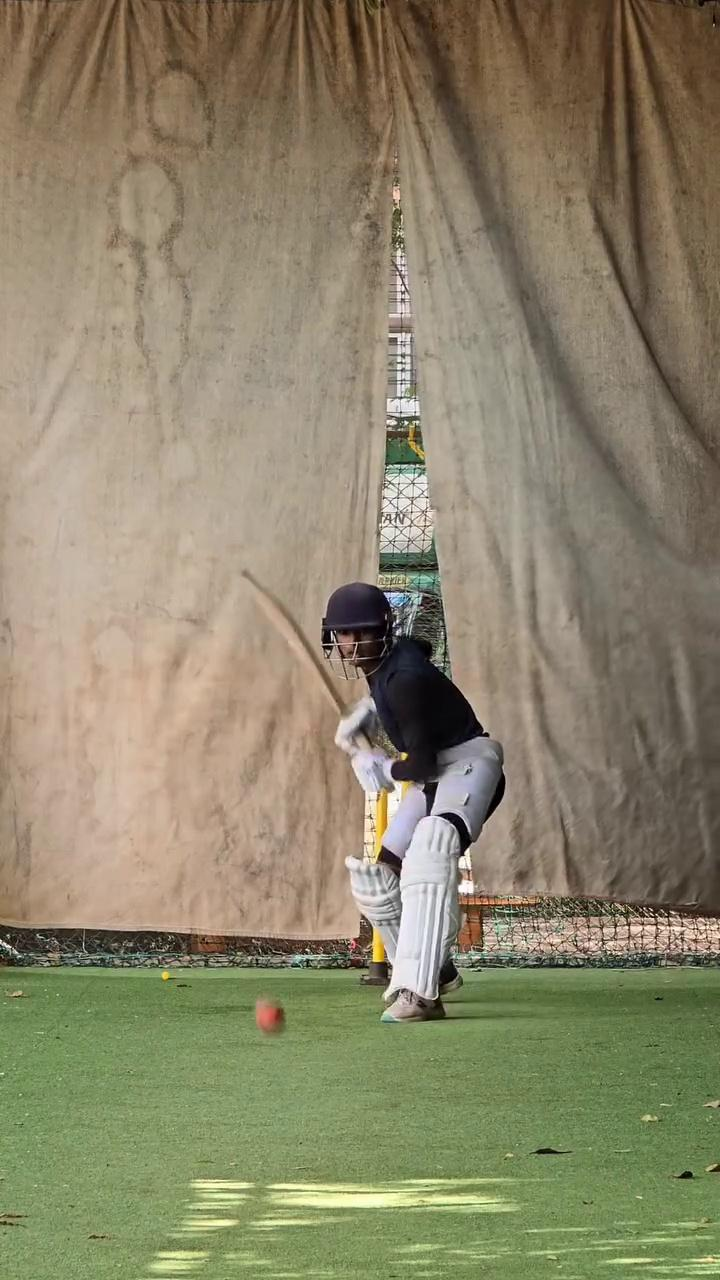bat: (231, 559, 357, 721)
